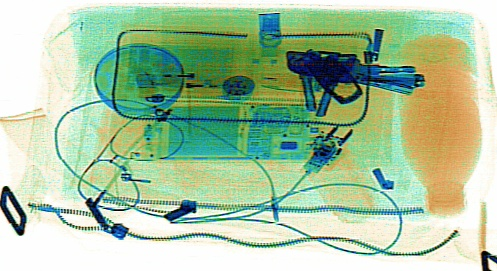lighter: (133, 70, 251, 96)
